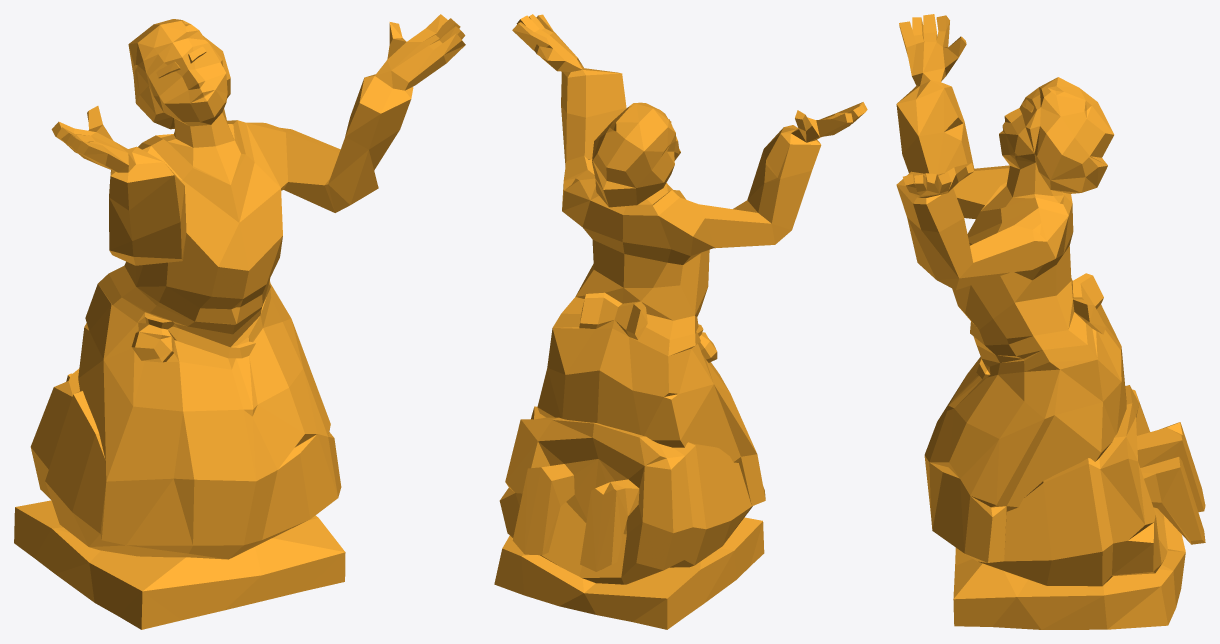
File: SM_Statue_Orant_Praying_Fantasy.fbx
3 renders of one model, left to right at view 1: azimuth 30°, elevation 25°; view 2: azimuth 150°, elevation 25°; view 3: azimuth 270°, elevation 25°, orthographic. The views are drawn at different scales.
Visible parts, largest first — view 1: SM_Statue_Orant_Praying_Fantasy; view 2: SM_Statue_Orant_Praying_Fantasy; view 3: SM_Statue_Orant_Praying_Fantasy.
Part boxes in pixels (left/top/right/bottom): SM_Statue_Orant_Praying_Fantasy: left=14, top=14, right=465, bottom=629; SM_Statue_Orant_Praying_Fantasy: left=494, top=14, right=867, bottom=629; SM_Statue_Orant_Praying_Fantasy: left=896, top=14, right=1205, bottom=629.
Size of the model in its own units: 1.12 by 1.46 by 0.8287.
